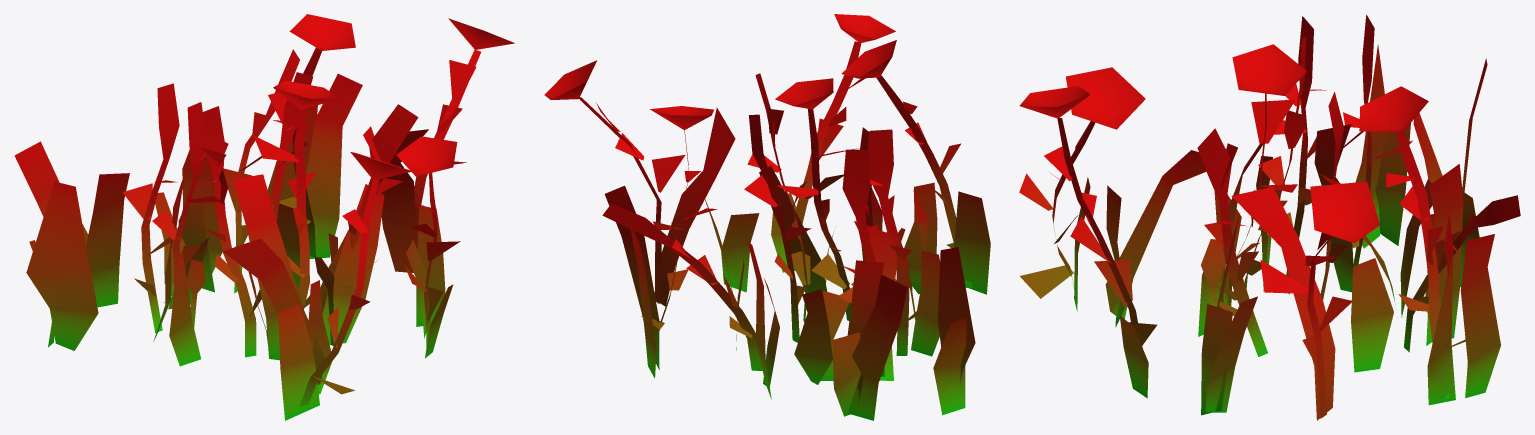
Rendered from Var6_LOD2.fbx.
3 renders of one model, left to right at view 1: azimuth 30°, elevation 25°; view 2: azimuth 150°, elevation 25°; view 3: azimuth 270°, elevation 25°, orthographic. The views are drawn at different scales.
Visible parts, largest first — view 1: _cfc6_Var6_LOD2; view 2: _cfc6_Var6_LOD2; view 3: _cfc6_Var6_LOD2.
Boxes of the visible parts, x1=… form: _cfc6_Var6_LOD2: x1=14, y1=14, x2=514, y2=420; _cfc6_Var6_LOD2: x1=544, y1=14, x2=990, y2=420; _cfc6_Var6_LOD2: x1=1019, y1=14, x2=1520, y2=420.
Bounding box in the file's own units: 16.43 × 8.82 × 13.24.
